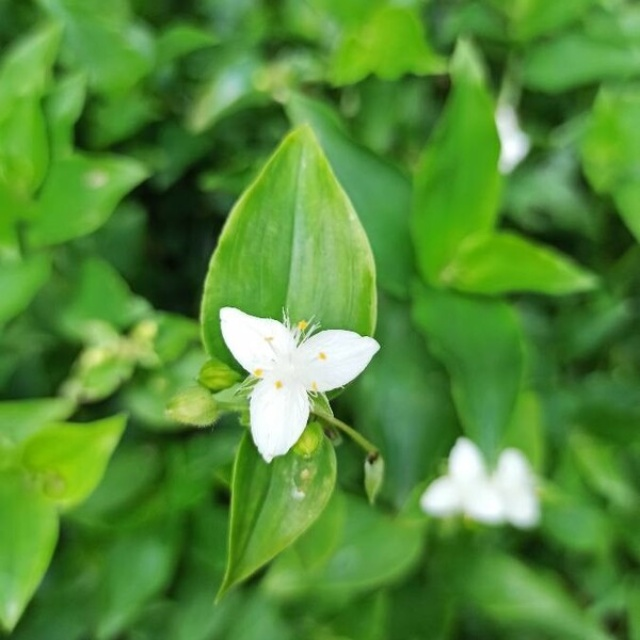obstacle: (174, 106, 396, 571)
